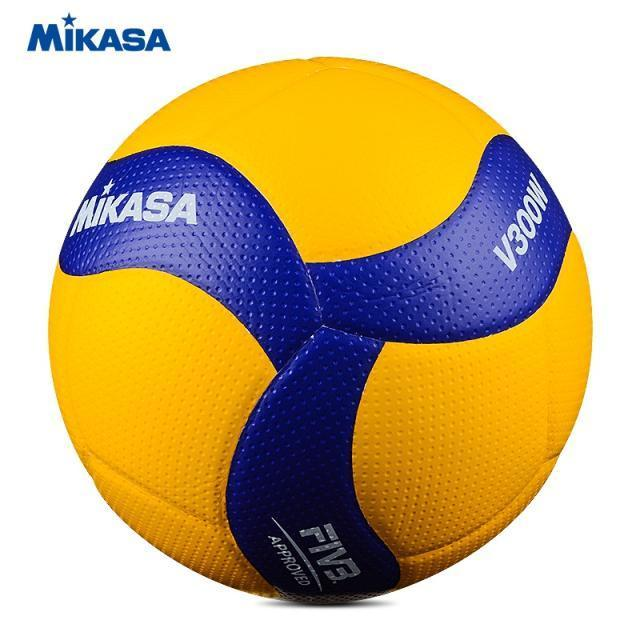volleyball: (48, 56, 593, 604)
